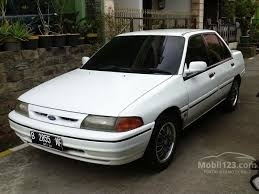plate: (30, 129, 63, 151)
